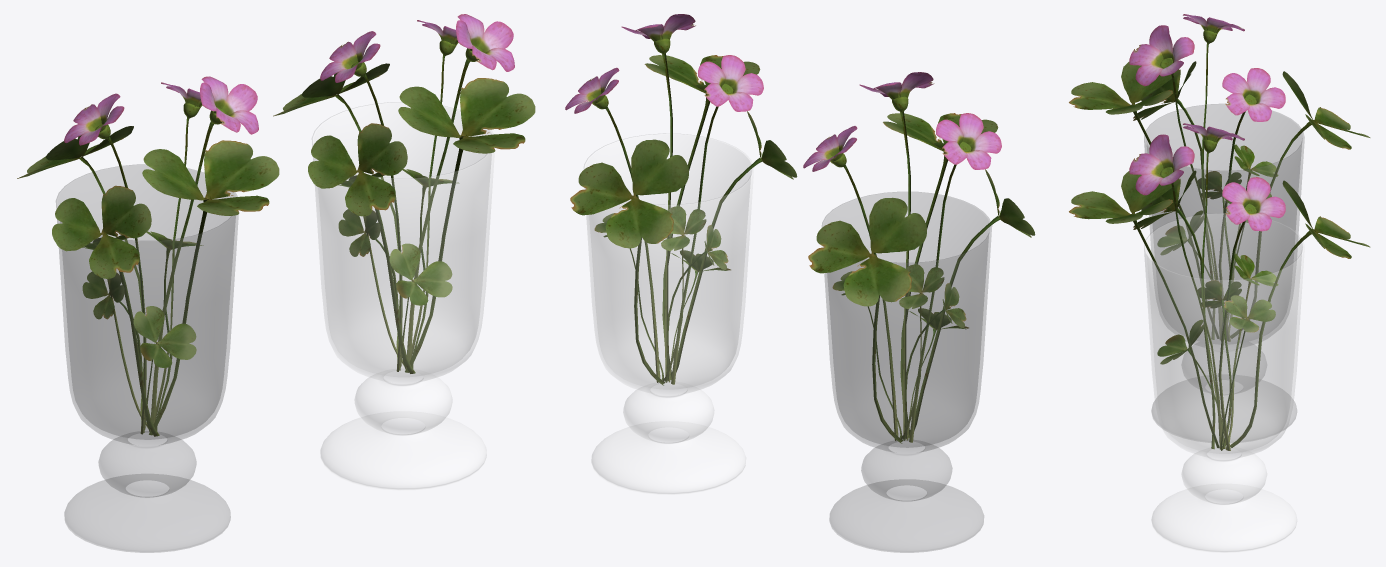
File: vase_flowers.glb
3 renders of one model, left to right at view 1: azimuth 30°, elevation 25°; view 2: azimuth 150°, elevation 25°; view 3: azimuth 270°, elevation 25°, orthographic. The views are drawn at different scales.
Parts seen in each view (by area): view 1: GlassAlpha, GlassTransmission, Flowers2, Flowers1; view 2: GlassAlpha, GlassTransmission, Flowers2, Flowers1; view 3: GlassTransmission, GlassAlpha, Flowers2, Flowers1.
Boxes of the visible parts, x1,y1,x2,y2 form: GlassAlpha: (56,164,238,552); GlassTransmission: (312,102,494,490); Flowers2: (273,14,535,373); Flowers1: (17,76,279,436); GlassAlpha: (822,192,991,552); GlassTransmission: (584,133,753,494); Flowers2: (565,14,797,385); Flowers1: (803,72,1035,443); GlassTransmission: (1144,213,1304,552); GlassAlpha: (1144,104,1304,442); Flowers2: (1069,123,1370,450); Flowers1: (1069,14,1370,341).
Bounding box in the file's own units: 0.2173 × 0.2032 × 0.1425.
Materials: 3 (1 with a texture image).
